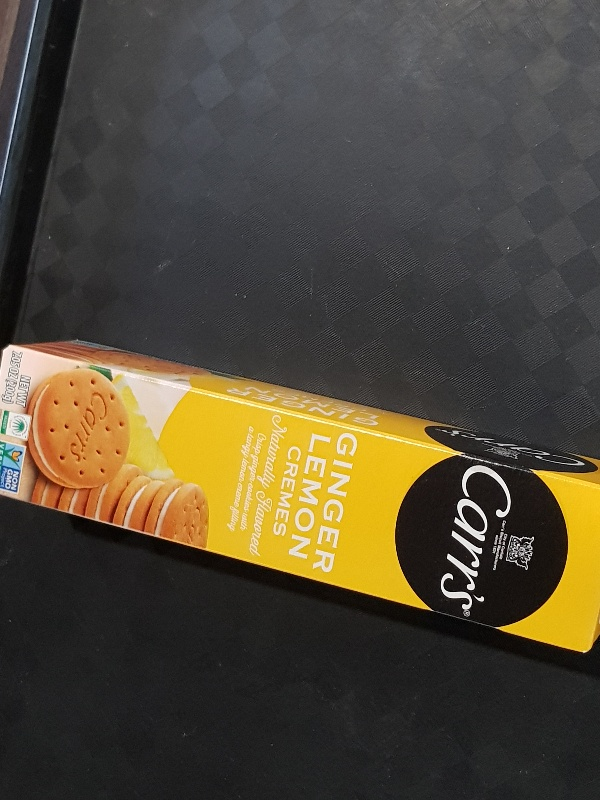Carr's Ginger Lemon Cremes: (1, 332, 600, 661)
